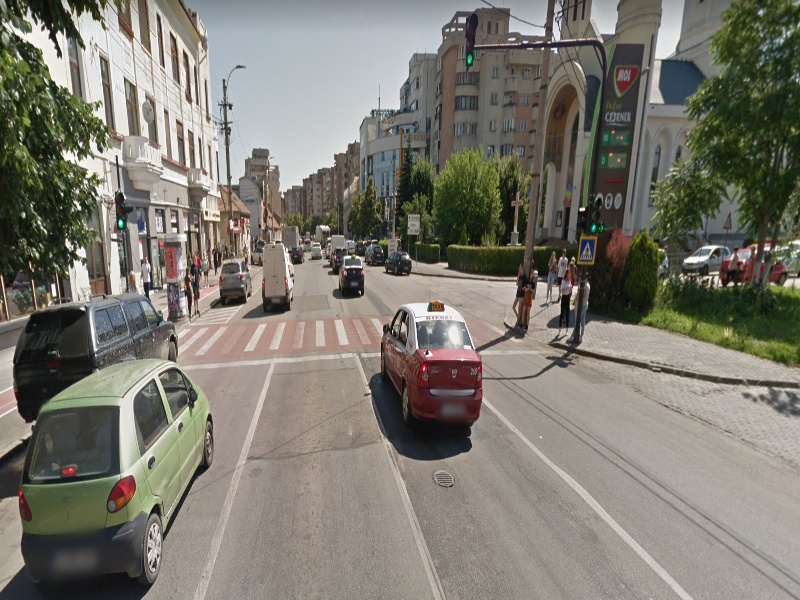crosswalk: (174, 308, 548, 365)
crosswalk_sign: (577, 236, 599, 267)
pedestrian: (510, 263, 531, 327), (556, 266, 574, 336), (182, 264, 197, 324), (543, 250, 557, 305), (138, 255, 155, 295)
